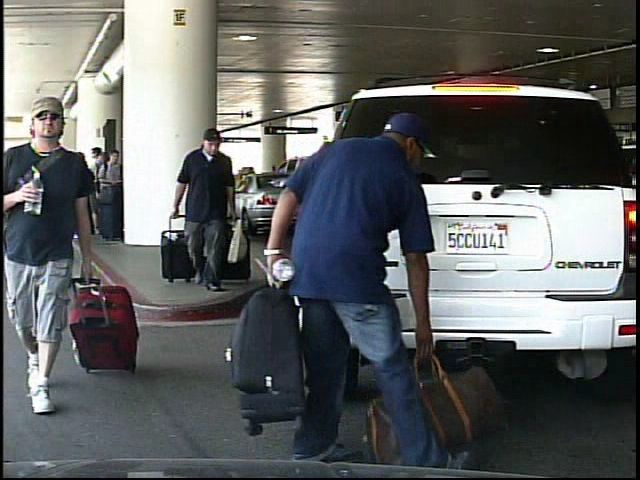person: (263, 76, 441, 470), (3, 96, 105, 414), (169, 129, 244, 297)
